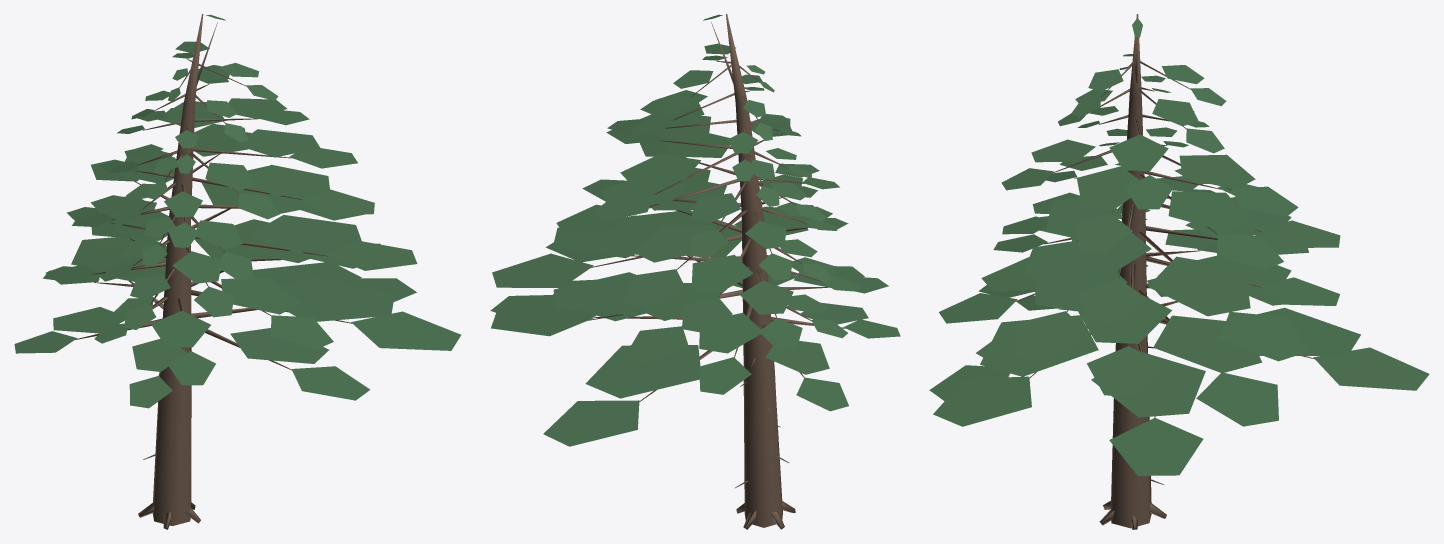
File: hemlock-windswept-lod2.glb
3 renders of one model, left to right at view 1: azimuth 30°, elevation 25°; view 2: azimuth 150°, elevation 25°; view 3: azimuth 270°, elevation 25°, orthographic. The views are drawn at different scales.
Visible parts, largest first — view 1: tree_hemlock-windswept_LOD2; view 2: tree_hemlock-windswept_LOD2; view 3: tree_hemlock-windswept_LOD2.
Part boxes in pixels (box(x1,y1,x2,y2)): tree_hemlock-windswept_LOD2: box(14, 14, 461, 529); tree_hemlock-windswept_LOD2: box(490, 14, 900, 529); tree_hemlock-windswept_LOD2: box(929, 14, 1429, 529).
Size of the model in its own units: 12.17 by 15.52 by 13.49.
